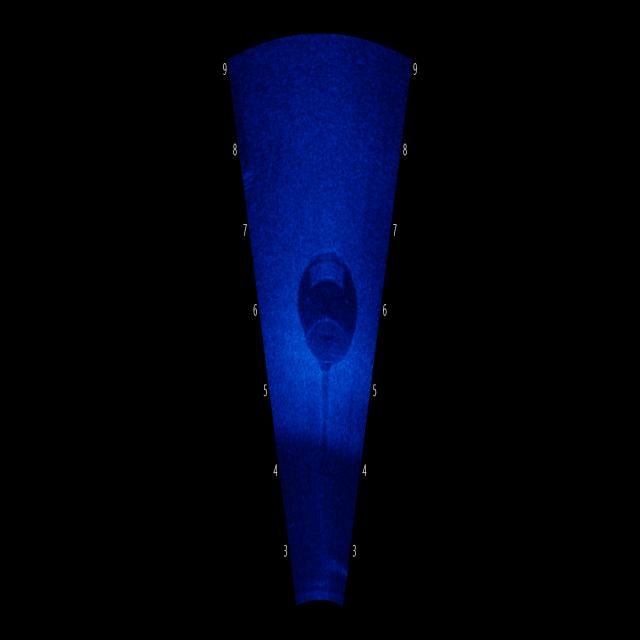circle: (290, 218, 364, 378)
